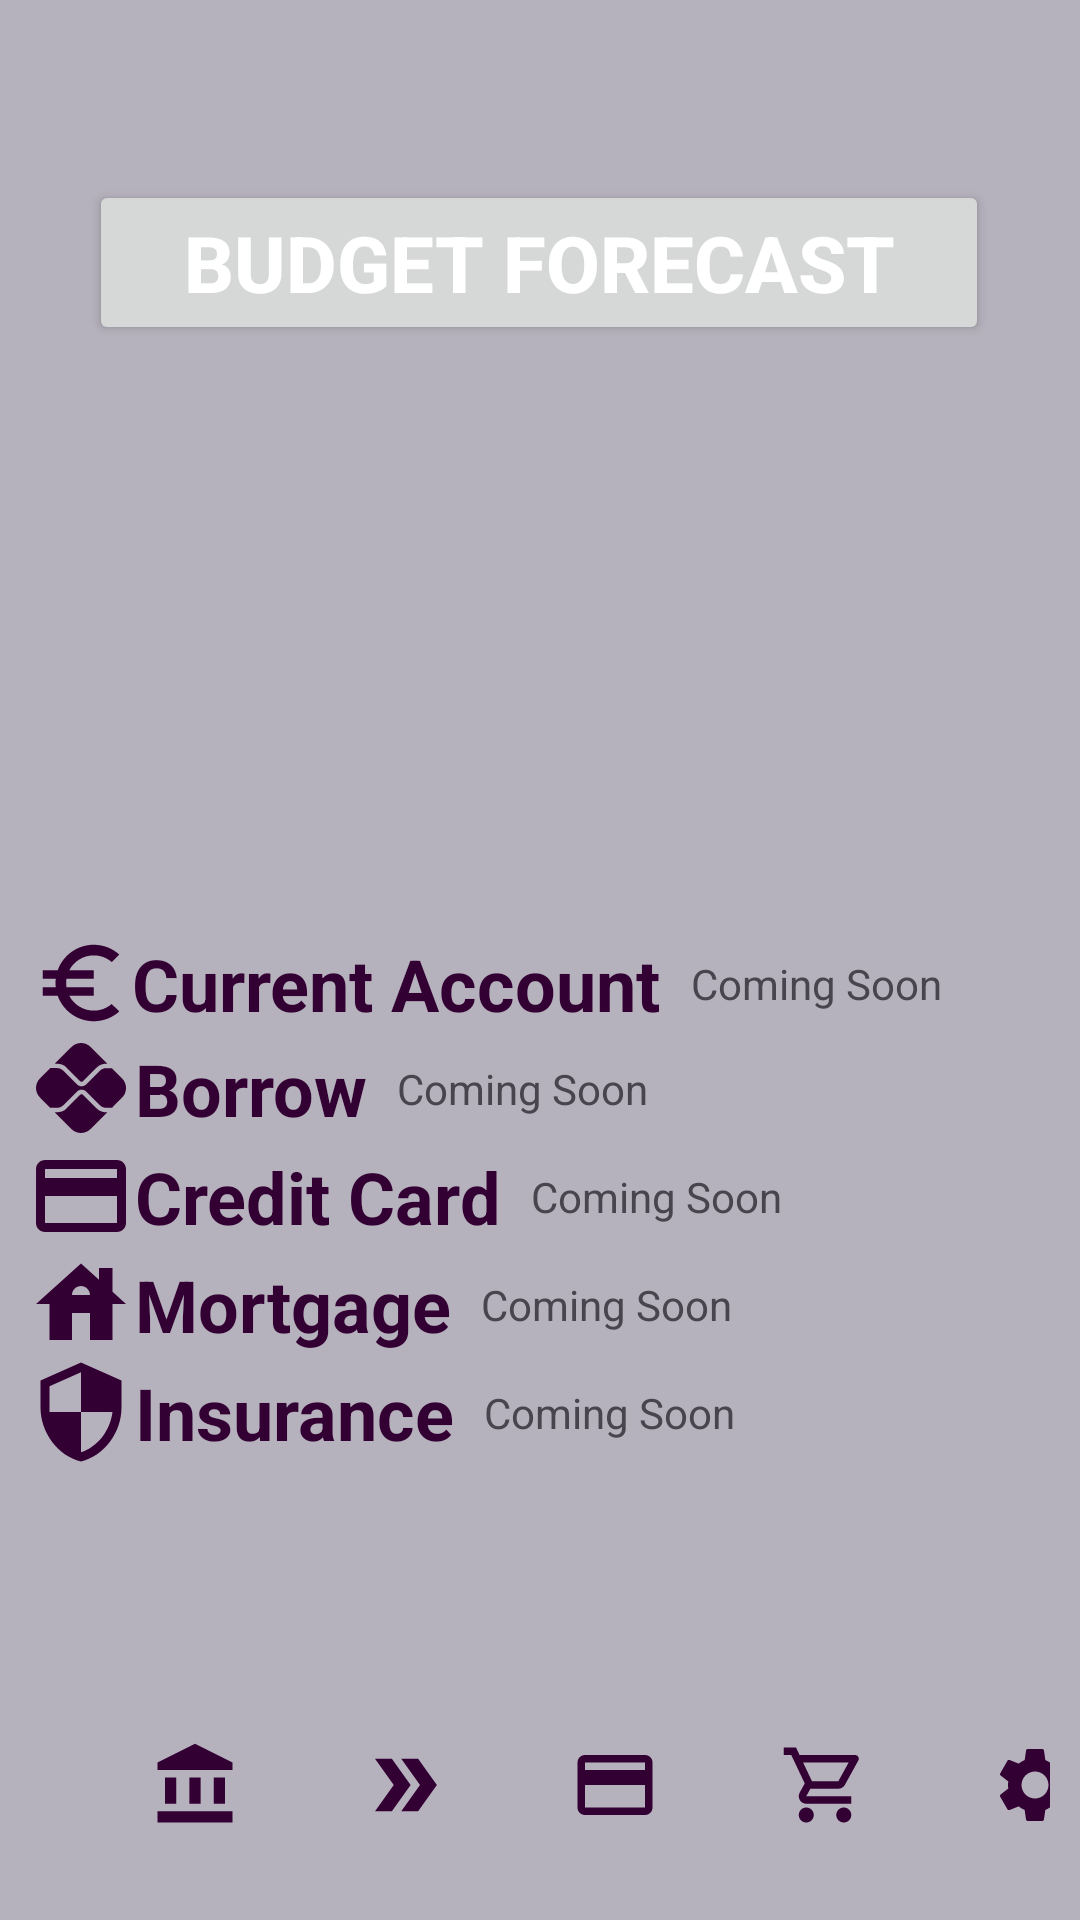

Where to tap for icons on this 1080×1920 app screen, as point (x, y):
Balance Page Icon: point (195, 1783)
cards icon: point (615, 1785)
euro symbol: point (80, 983)
house: point (81, 1301)
products icon: point (821, 1785)
Transfers Icon: point (406, 1785)
